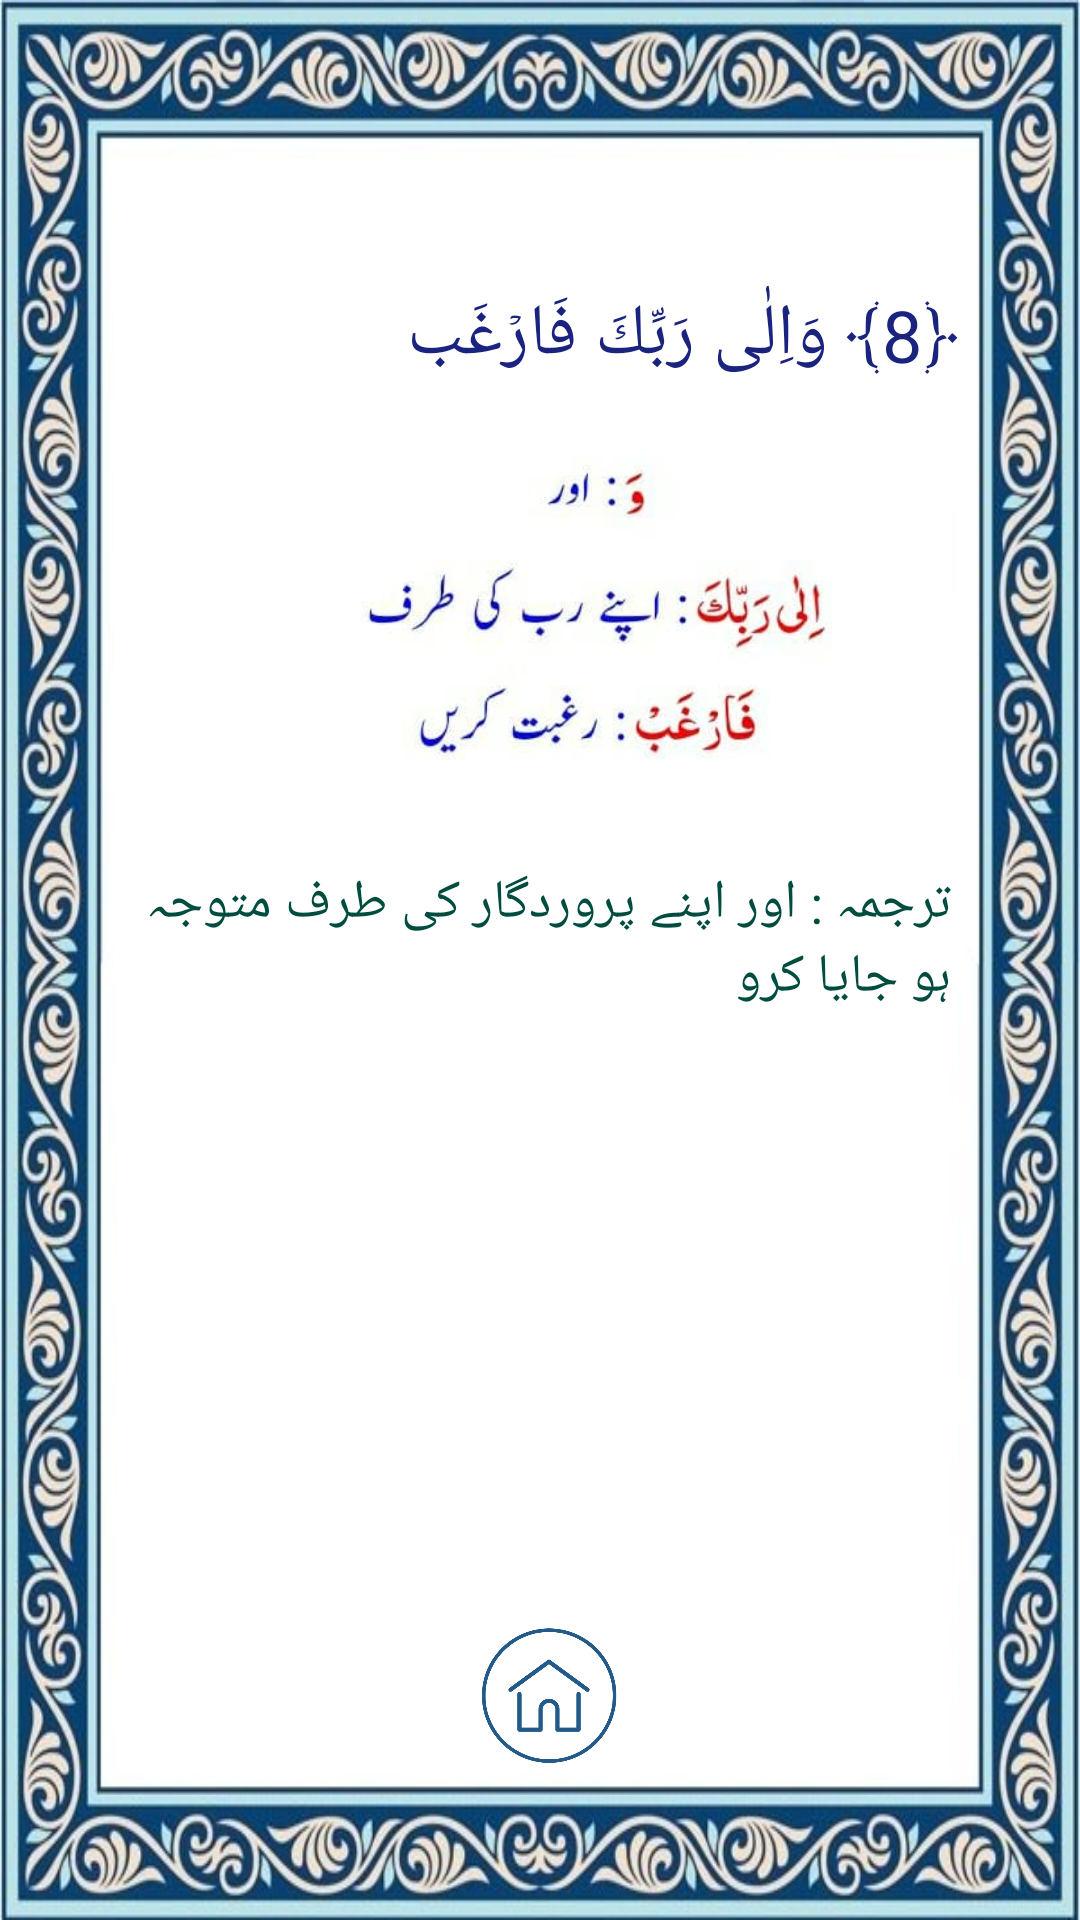

Point at icon controls on the screen. Image size 1080*1920, points as [x,y].
home: [549,1695]
